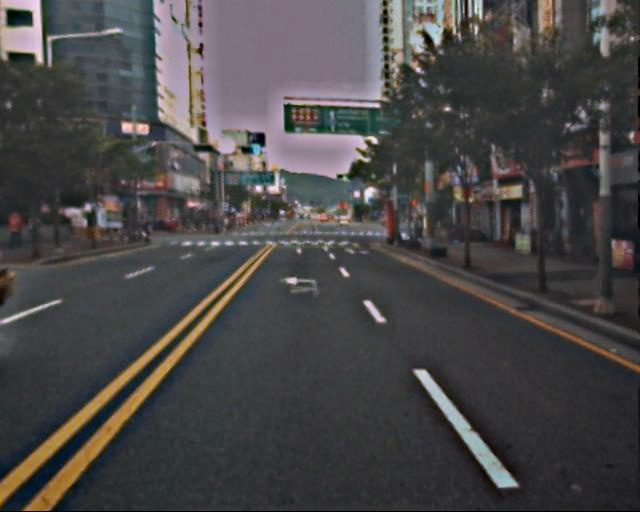person: (7, 204, 40, 249), (26, 205, 53, 249)
